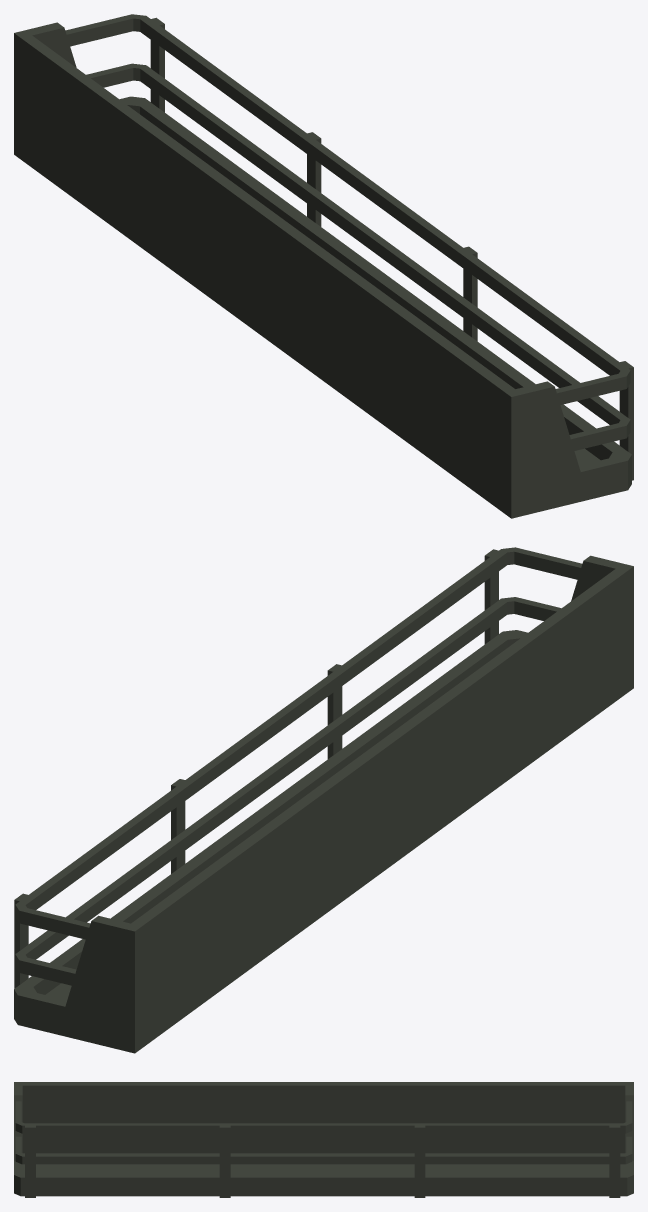
Rendered from SM_Veh_Attach_Container_01.fbx.
The picture shows the model from 3 angles, top to bottom: view 1: azimuth 30°, elevation 25°; view 2: azimuth 150°, elevation 25°; view 3: azimuth 270°, elevation 25°; orthographic projection. The views are drawn at different scales.
Parts seen in each view (by area): view 1: SM_Veh_Attach_Container_01; view 2: SM_Veh_Attach_Container_01; view 3: SM_Veh_Attach_Container_01.
Boxes of the visible parts, bbox=[...] form: SM_Veh_Attach_Container_01: bbox=[14, 14, 633, 518]; SM_Veh_Attach_Container_01: bbox=[14, 547, 633, 1053]; SM_Veh_Attach_Container_01: bbox=[14, 1082, 633, 1197].
Bounding box in the file's own units: 35.35 × 31.27 × 232.
